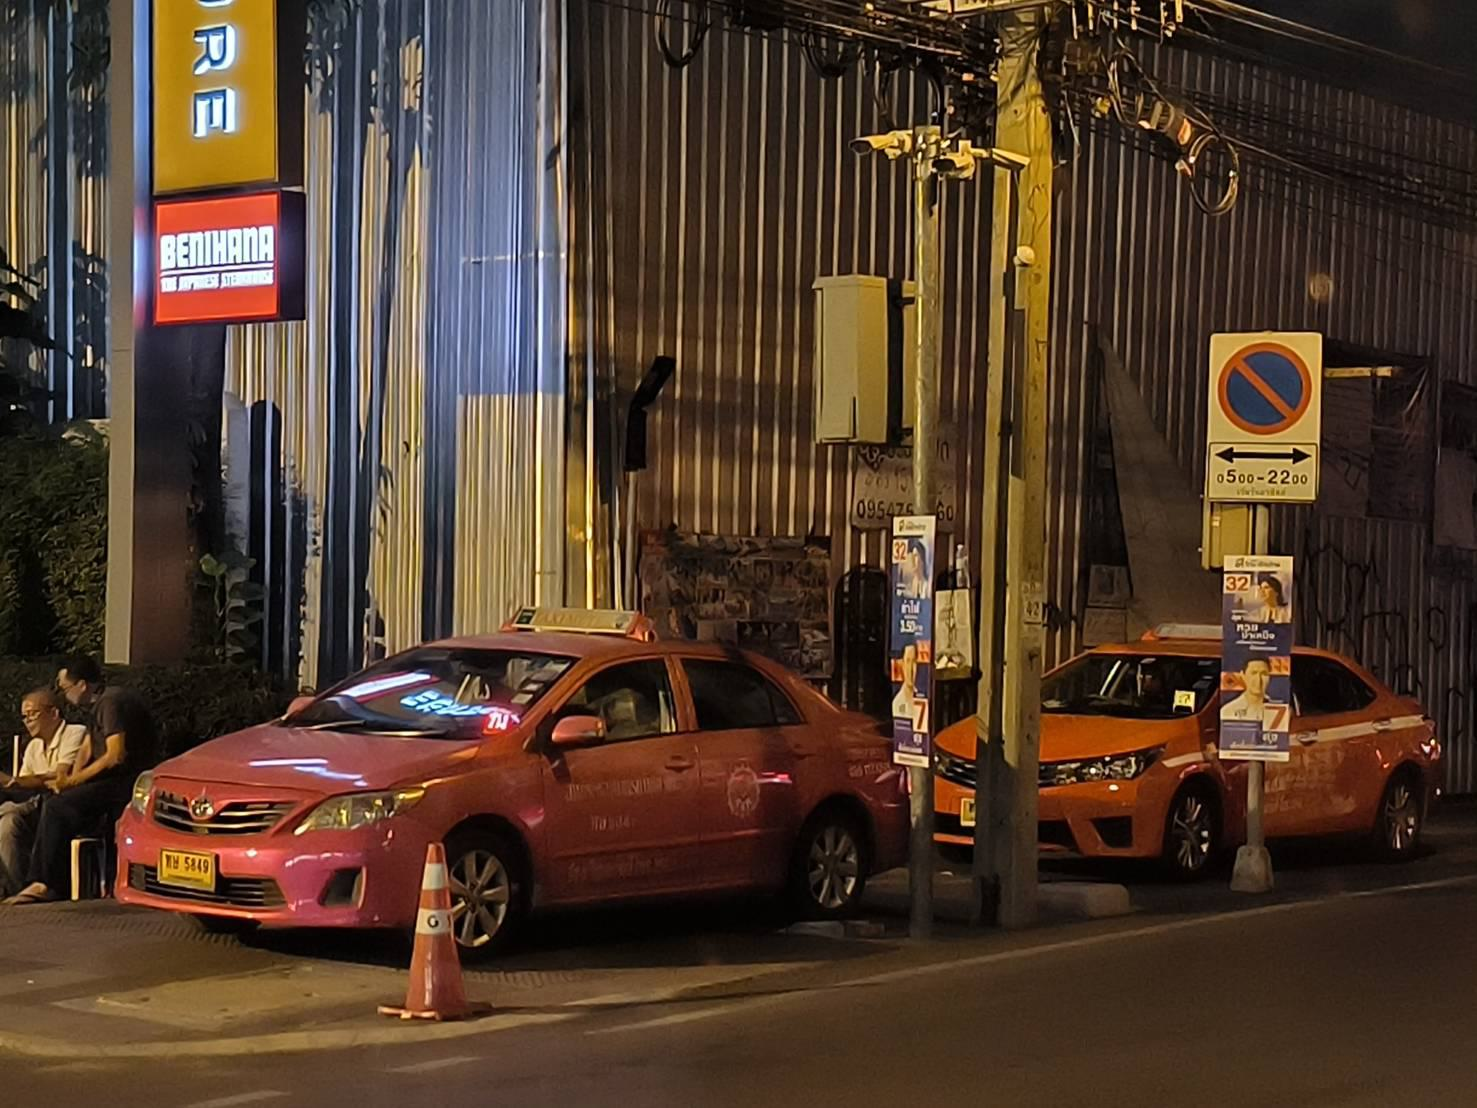Banner: (1219, 557, 1294, 766), (896, 514, 940, 769)
